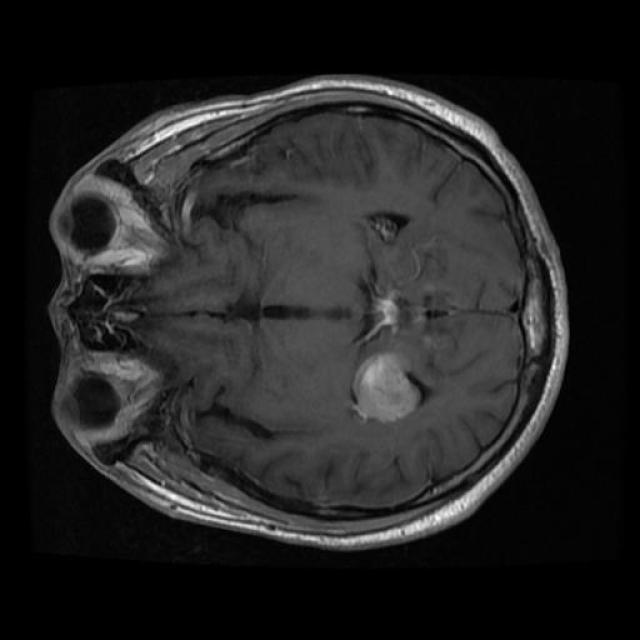Meningioma: (353, 354, 420, 421)
